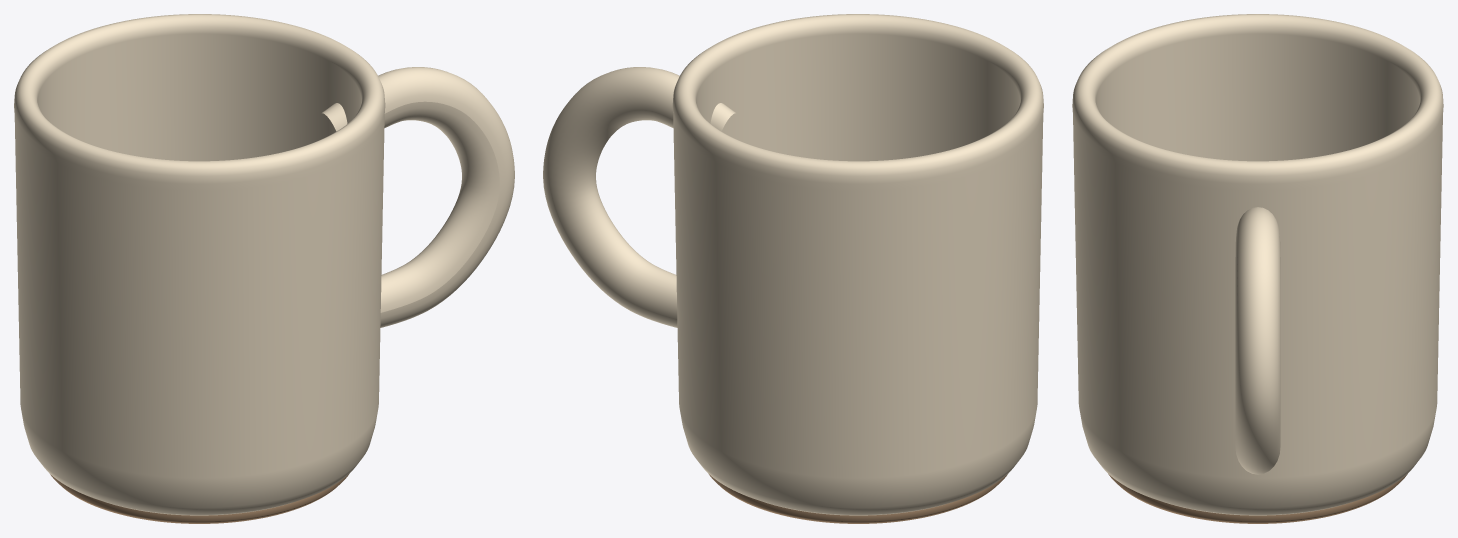
File: dune.glb
The picture shows the model from 3 angles, left to right: view 1: azimuth 30°, elevation 25°; view 2: azimuth 150°, elevation 25°; view 3: azimuth 270°, elevation 25°; orthographic projection.
Size of the model in its own units: 2.07 by 1.55 by 1.41.
